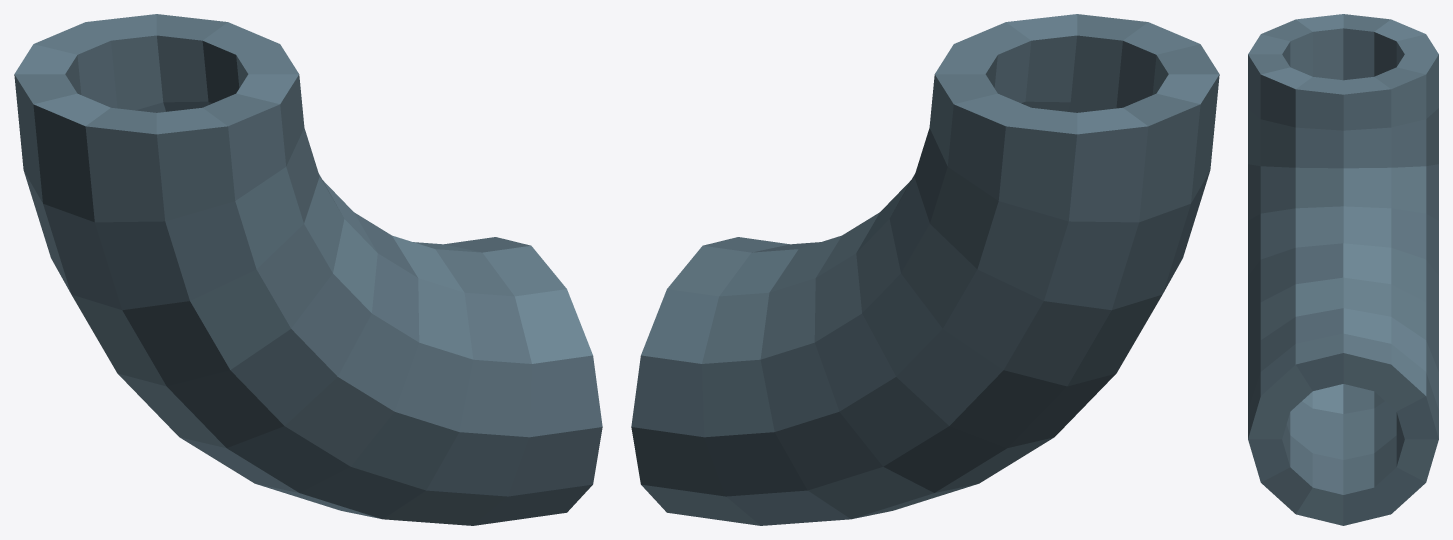
Rendered from P39_Pipe_Elbow90.fbx.
The picture shows the model from 3 angles, left to right: view 1: azimuth 30°, elevation 25°; view 2: azimuth 150°, elevation 25°; view 3: azimuth 270°, elevation 25°; orthographic projection. The views are drawn at different scales.
Parts seen in each view (by area): view 1: P39_Pipe_Elbow90; view 2: P39_Pipe_Elbow90; view 3: P39_Pipe_Elbow90.
Part boxes in pixels (bbox=[...]): P39_Pipe_Elbow90: bbox=[14, 14, 602, 525]; P39_Pipe_Elbow90: bbox=[631, 14, 1219, 525]; P39_Pipe_Elbow90: bbox=[1248, 14, 1438, 525].
Bounding box in the file's own units: 1.13 × 1.13 × 0.56.
Materials: 1 (1 with a texture image).
